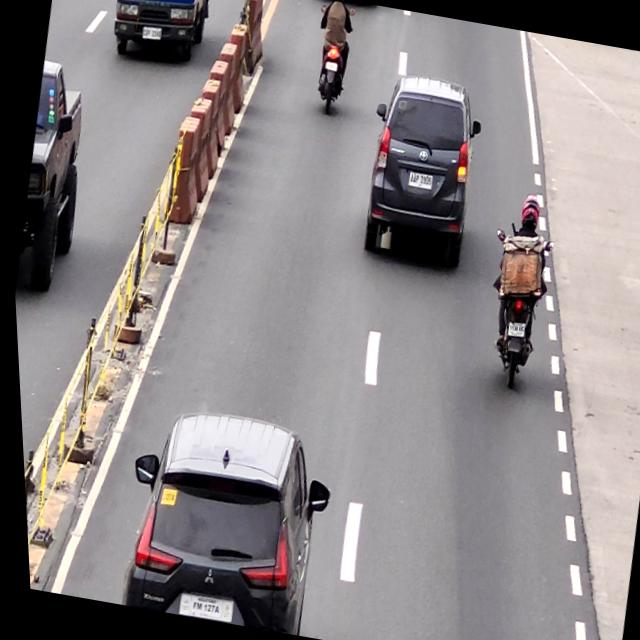Car: (101, 398, 340, 638), (348, 67, 493, 270)
License-Plate: (180, 594, 218, 620), (403, 168, 432, 192), (503, 321, 522, 338), (322, 61, 338, 72)
Motorcycle: (469, 228, 559, 394), (304, 0, 360, 116)
